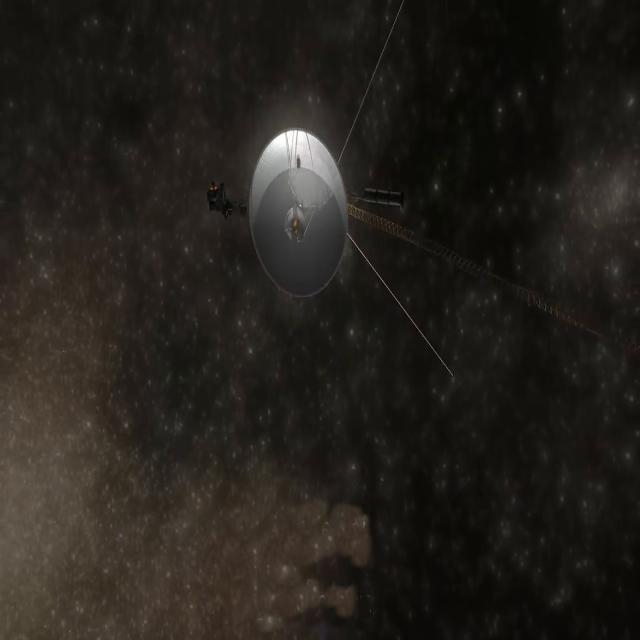satellite: (202, 106, 425, 319)
